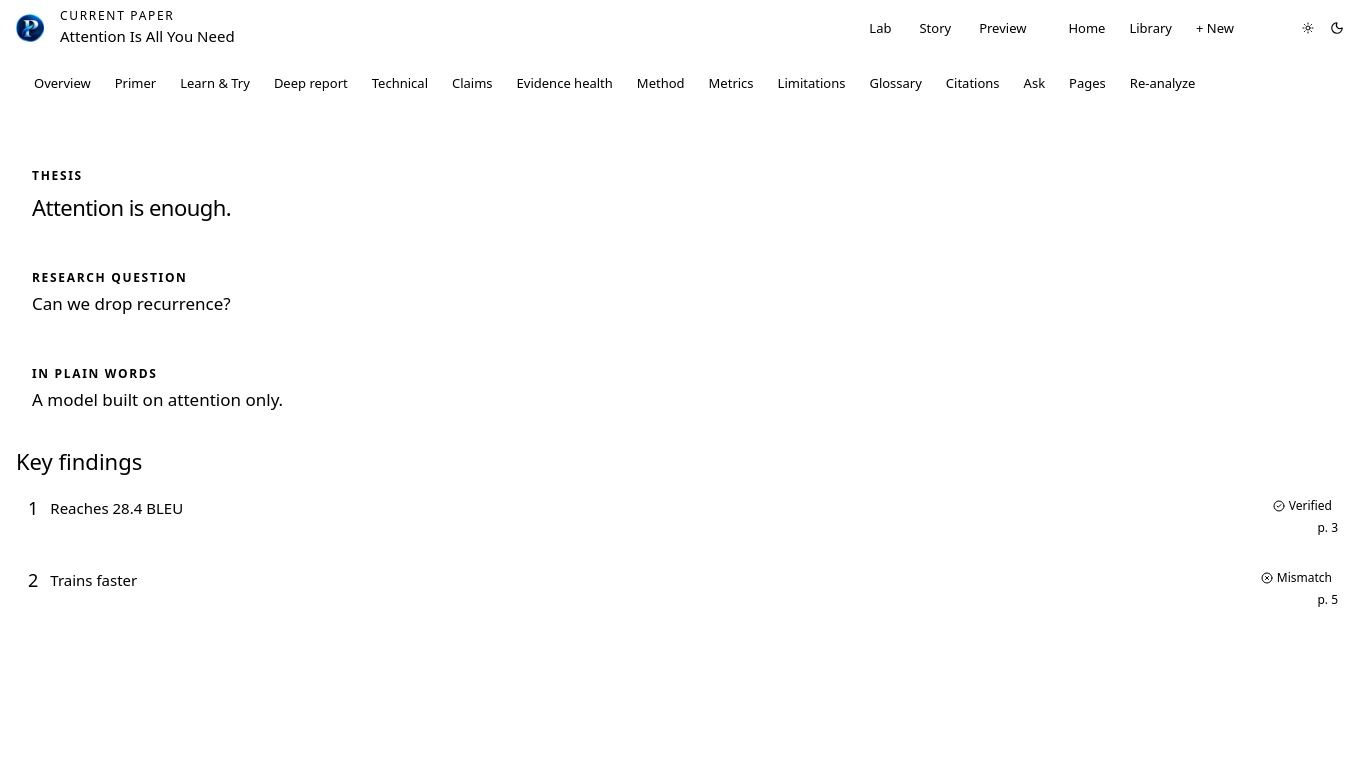
Test: Lab › lists nav items and the claims ledger with N/M verified, row anchors and permalinks
Expected: the element named "Studio mode" is shown, [853,13,1042,43]
Expected: the text "Attention is enough." is shown, [32,192,231,222]
Click the button "Claims".
click(472, 83)  # box [442,68,503,98]
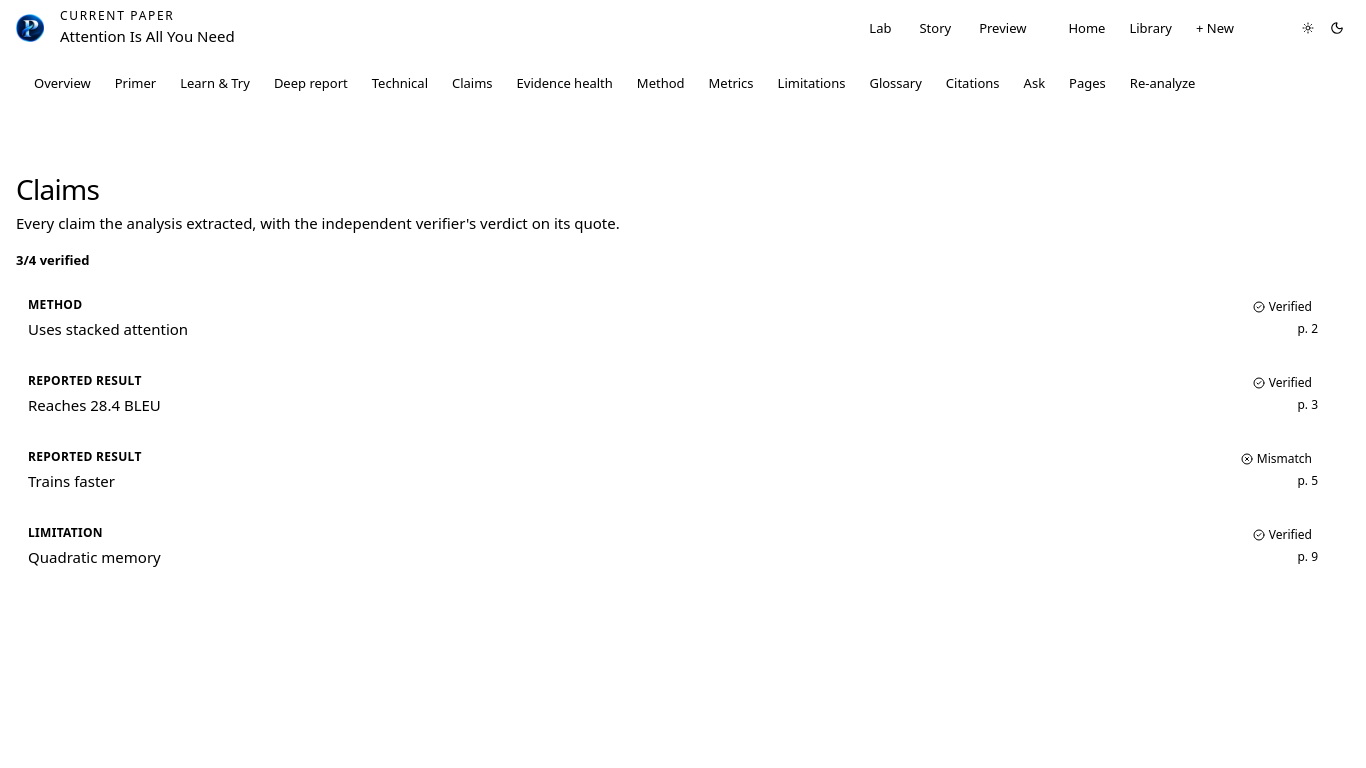
Expected: the text "Mismatch" is shown, [1235,449,1318,469]
Result: the text "3/4 verified" is shown at [16,251,90,269]
Result: the list item with id "claim-c3" is shown
Click the button "Reported result Mismatch p. 5 Trains faster".
click(85, 457)  # box [16,437,1350,505]
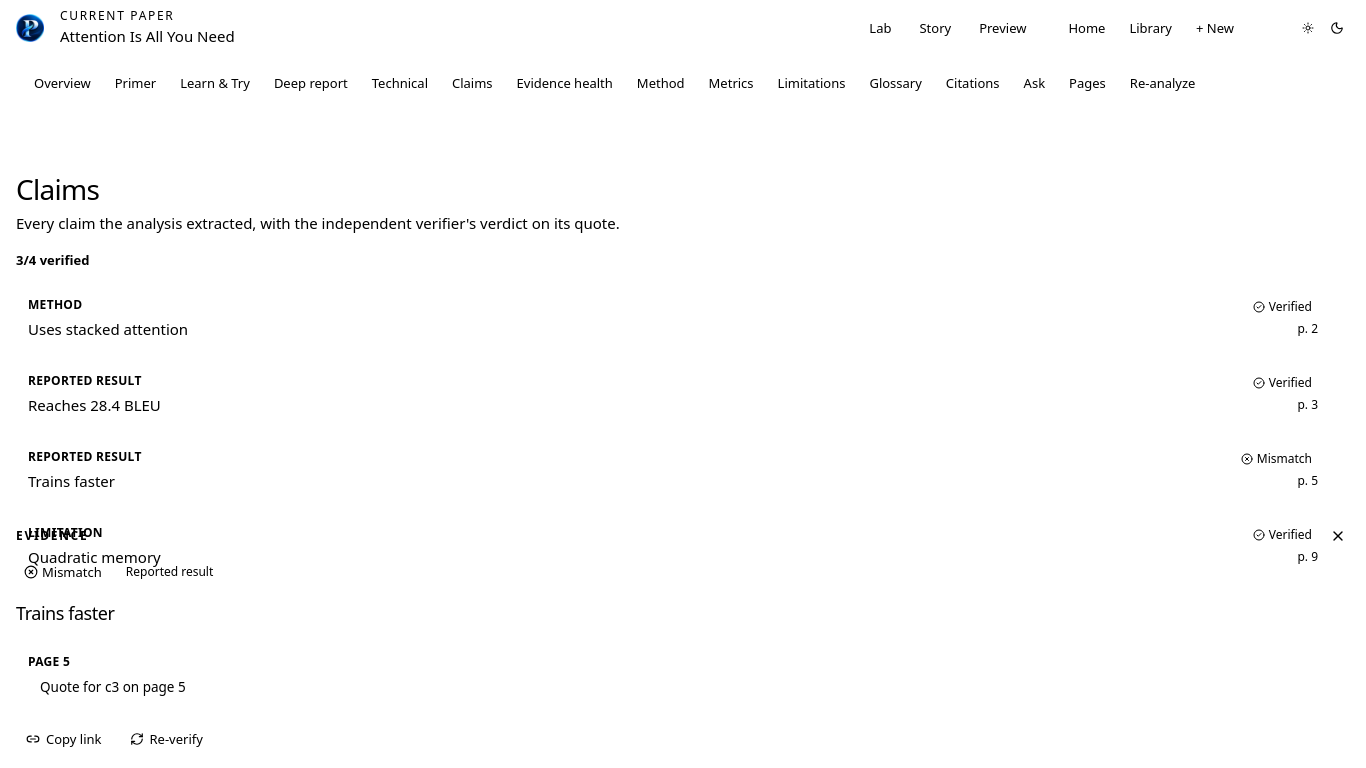
Result: the 2nd message "Mismatch" is shown at [24,563,102,581]
